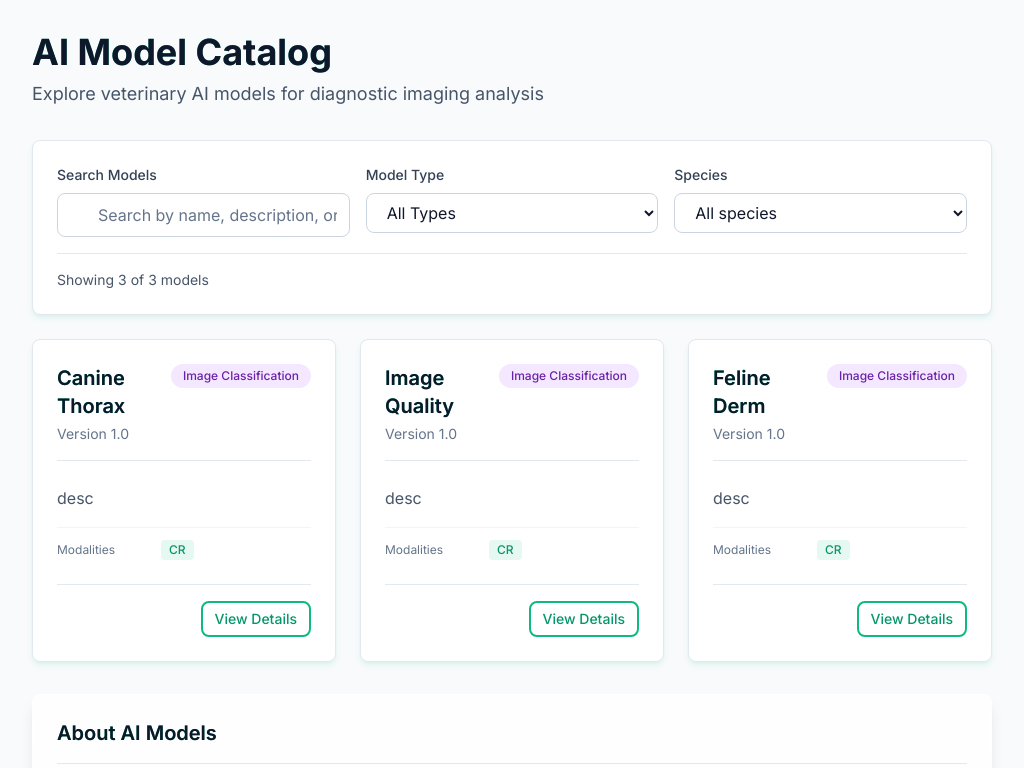
Test case: ModelsPage species filter › shows canine + agnostic when canine is selected
Expected: the heading "Canine Thorax" is shown, [57, 364, 171, 420]
Select "Canine" in the dropdown labelled "Species" at (821, 213), box [674, 193, 967, 233]
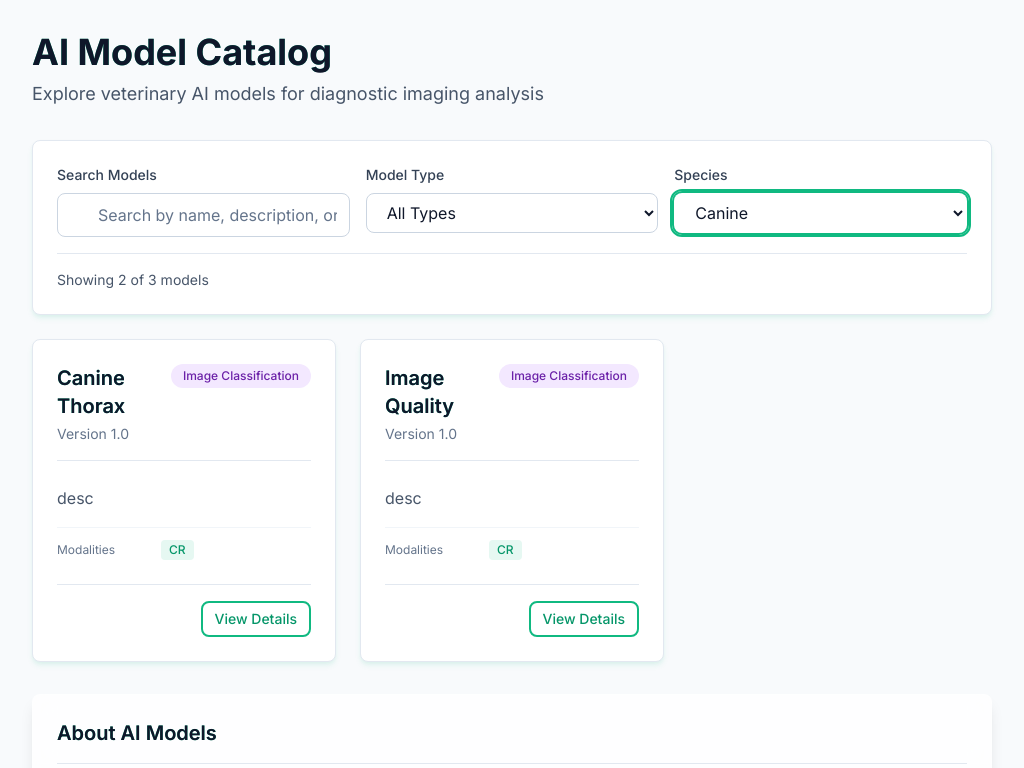
Expected: the heading "Canine Thorax" is shown, [57, 364, 171, 420]
Expected: the heading "Feline Derm" is gone
